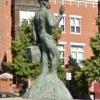Statue: (20, 2, 68, 86)
